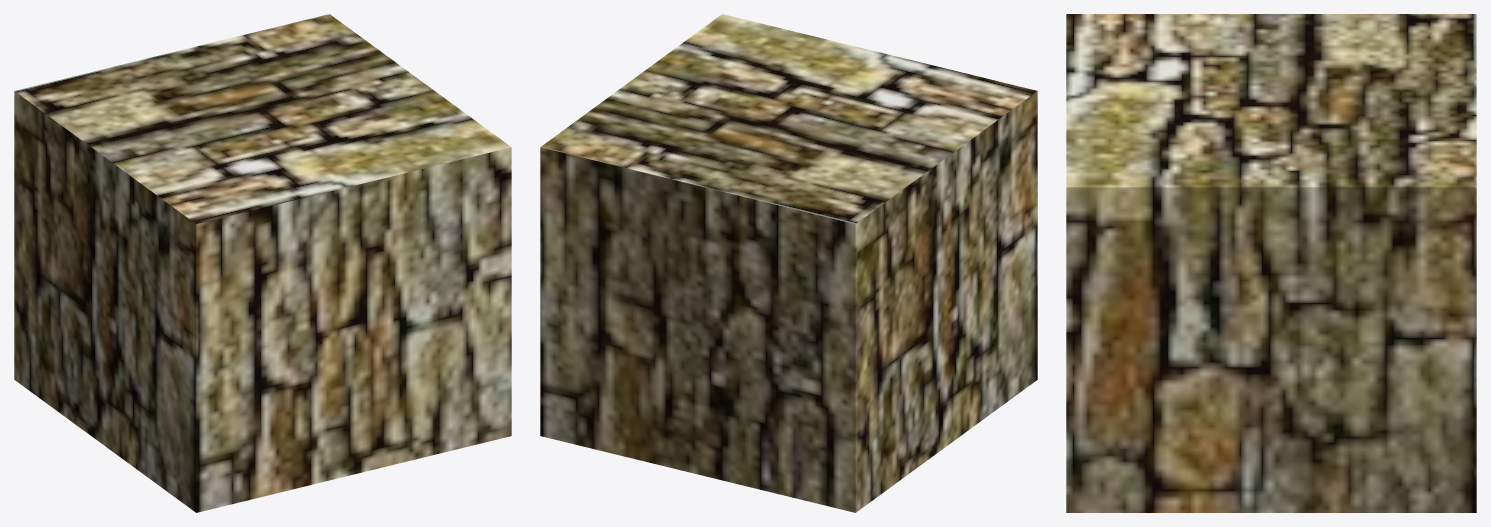
The model's file is pared_laberinto.278_lev2.glb.
3 views of the same model, side by side, from view 1: azimuth 30°, elevation 25°; view 2: azimuth 150°, elevation 25°; view 3: azimuth 270°, elevation 25° (orthographic). The views are drawn at different scales.
Visible parts, largest first — view 1: pared_laberinto.278_lev2; view 2: pared_laberinto.278_lev2; view 3: pared_laberinto.278_lev2.
Boxes of the visible parts, <box> form: pared_laberinto.278_lev2: <box>14,14,511,512</box>; pared_laberinto.278_lev2: <box>540,14,1037,512</box>; pared_laberinto.278_lev2: <box>1066,14,1476,512</box>.
Bounding box in the file's own units: 3.2 × 2.8 × 3.2.
1 material, 1 textured.
